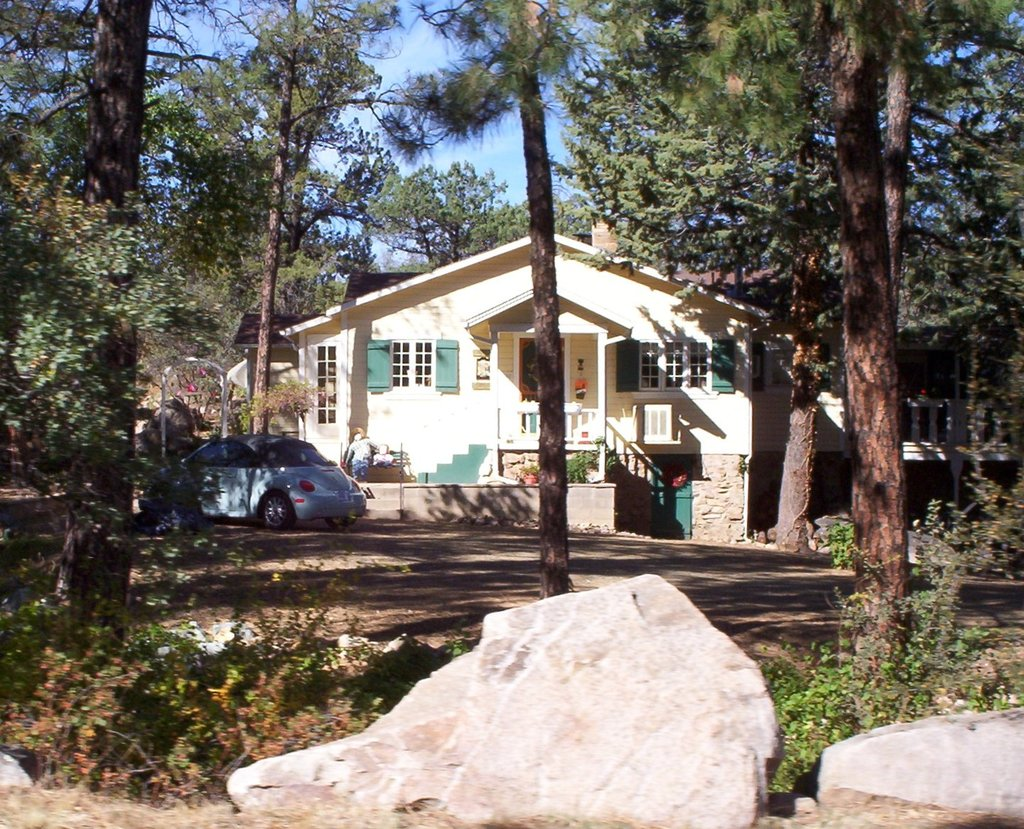Car: (180, 430, 362, 527)
